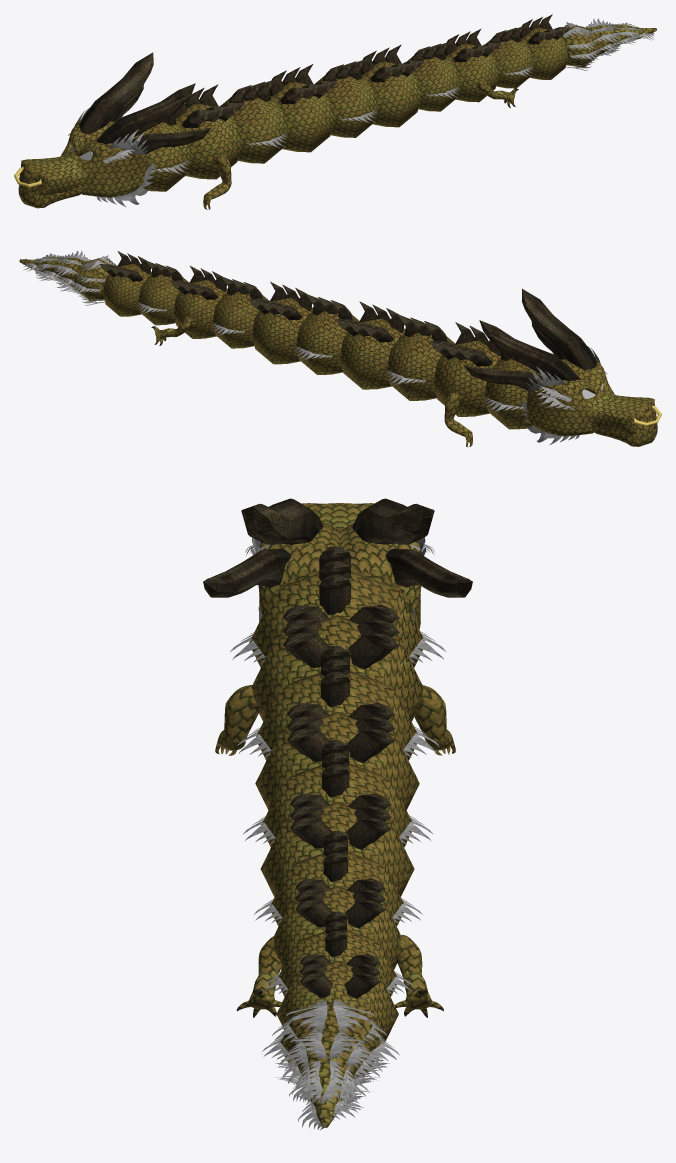
File: Dragão (2).FBX
3 views of the same model, one above another, from view 1: azimuth 30°, elevation 25°; view 2: azimuth 150°, elevation 25°; view 3: azimuth 270°, elevation 25° (orthographic). The views are drawn at different scales.
Visible parts, largest first — view 1: Cranio, Corpo 3, Corpo 4, Corpo 2, Corpo 5, Corpo 6, Chifre Direito 1, Chifre Esquerdo 1, Corpo 7, Corpo 1, Cauda, Corpo 8 (+10 smaller); view 2: Cranio, Corpo 3, Corpo 4, Corpo 2, Corpo 5, Corpo 6, Chifre Esquerdo 1, Chifre Direito 1, Corpo 7, Corpo 1, Corpo 8, Cauda (+10 smaller); view 3: Cranio, Corpo 2, Corpo 1, Corpo 4, Corpo 6, Corpo 3, Corpo 5, Cauda, Corpo 10, Corpo 8, Corpo 7, Chifre Direito 1 (+11 smaller).
Boxes of the visible parts, x1=… form: Cranio: x1=19, y1=120, x2=147, y2=197; Corpo 3: x1=222, y1=96, x2=287, y2=163; Corpo 4: x1=270, y1=82, x2=334, y2=152; Corpo 2: x1=175, y1=104, x2=241, y2=179; Corpo 5: x1=315, y1=75, x2=377, y2=137; Corpo 6: x1=361, y1=62, x2=421, y2=127; Chifre Direito 1: x1=79, y1=52, x2=153, y2=134; Chifre Esquerdo 1: x1=96, y1=83, x2=195, y2=144; Corpo 7: x1=406, y1=56, x2=459, y2=111; Corpo 1: x1=138, y1=122, x2=191, y2=191; Cauda: x1=561, y1=25, x2=656, y2=67; Corpo 8: x1=446, y1=44, x2=498, y2=102; Cranio: x1=526, y1=359, x2=656, y2=436; Corpo 3: x1=386, y1=332, x2=455, y2=400; Corpo 4: x1=339, y1=318, x2=405, y2=389; Corpo 2: x1=433, y1=340, x2=500, y2=416; Corpo 5: x1=295, y1=310, x2=359, y2=374; Corpo 6: x1=251, y1=298, x2=312, y2=364; Chifre Esquerdo 1: x1=522, y1=288, x2=597, y2=370; Chifre Direito 1: x1=479, y1=320, x2=580, y2=381; Corpo 7: x1=212, y1=291, x2=269, y2=348; Corpo 1: x1=484, y1=358, x2=536, y2=429; Corpo 8: x1=173, y1=280, x2=227, y2=338; Cauda: x1=19, y1=257, x2=117, y2=301; Cranio: x1=258, y1=503, x2=421, y2=629; Corpo 2: x1=251, y1=615, x2=423, y2=721; Corpo 1: x1=249, y1=572, x2=424, y2=667; Corpo 4: x1=255, y1=712, x2=419, y2=810; Corpo 6: x1=260, y1=802, x2=414, y2=896; Corpo 3: x1=256, y1=671, x2=416, y2=760; Corpo 5: x1=261, y1=763, x2=411, y2=847; Cauda: x1=280, y1=1002, x2=381, y2=1127; Corpo 10: x1=276, y1=960, x2=398, y2=1041; Corpo 8: x1=273, y1=886, x2=401, y2=969; Corpo 7: x1=270, y1=852, x2=403, y2=926; Chifre Direito 1: x1=352, y1=498, x2=434, y2=544.
Size of the model in its own units: 328 by 64.8 by 60.45.
